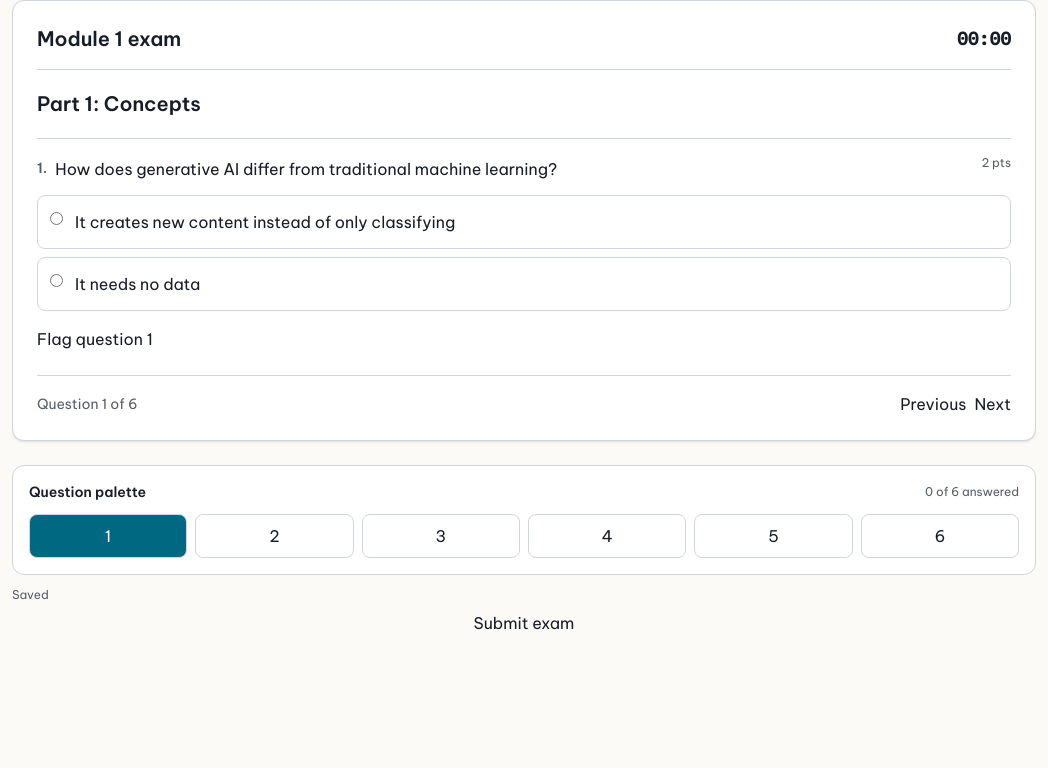
ExamPlayer › retains pending answers after a section deadline rejection without treating the attempt as terminal
Step 1. Click the radio button labelled "It creates new content instead of only classifying" → (56, 218), box [50,212,63,225]
Wait 1000 ms
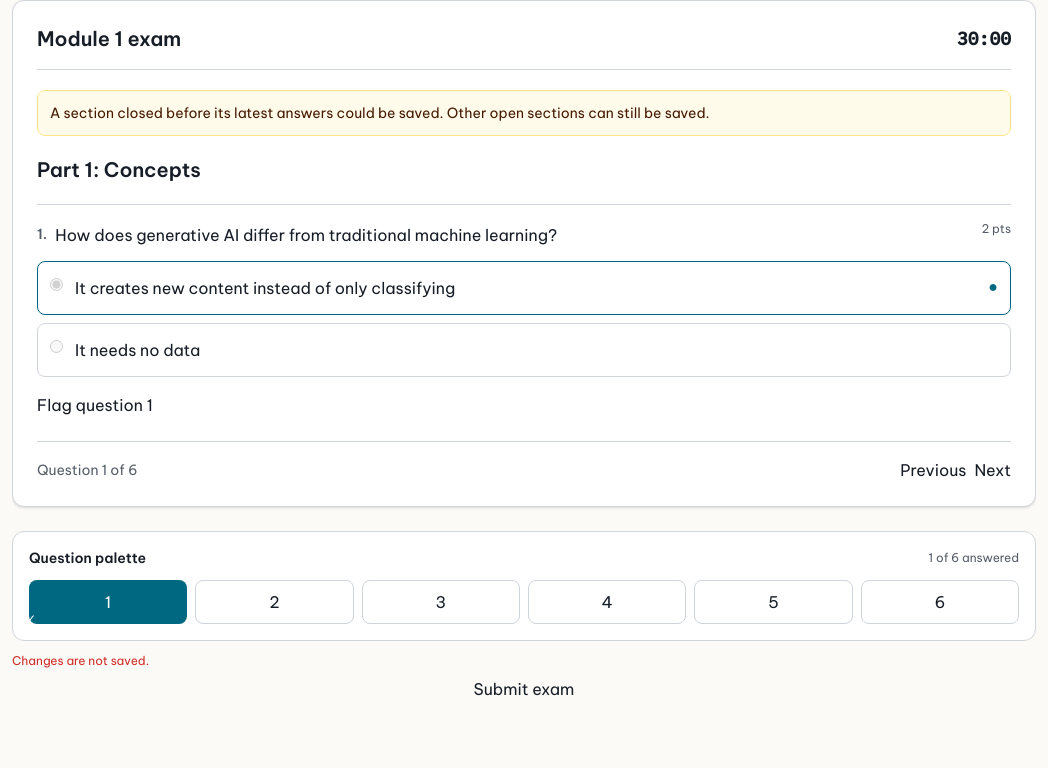
Now the message "Changes are not saved." is shown, box [12,653,149,669]
